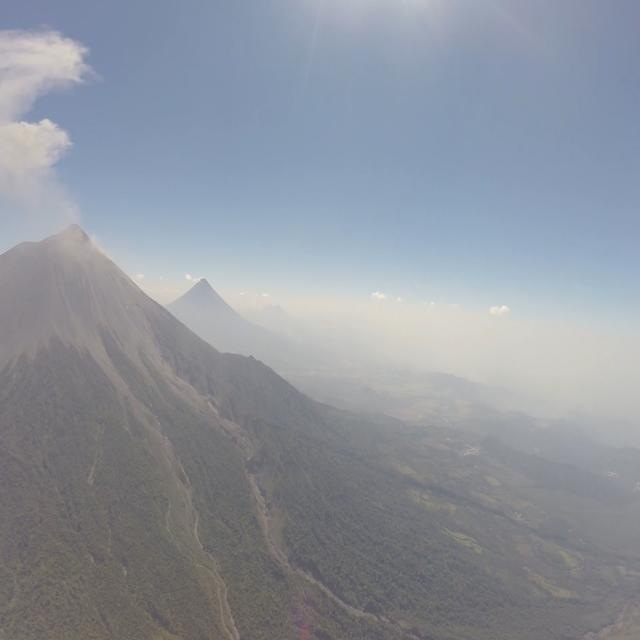Plume: (0, 22, 100, 112), (1, 115, 82, 200)
Summit: (39, 220, 101, 249)
